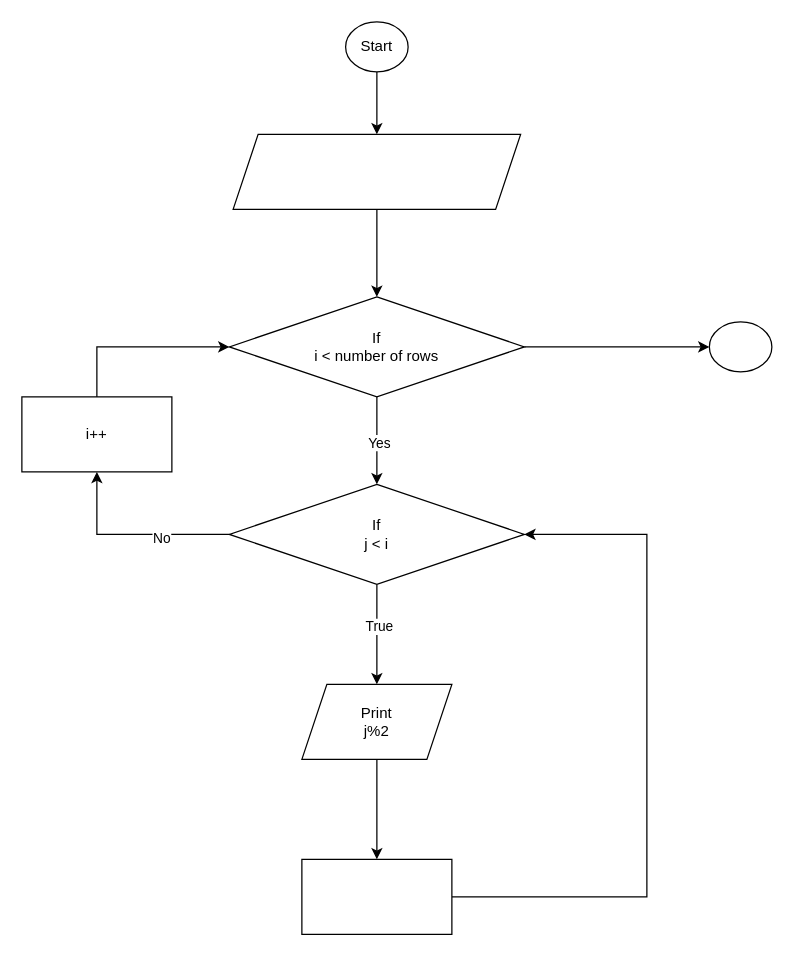
Some shapes in this 794 by 956 pixel diagram are drawn without their labels. The centre of each missing label's shape, as x and y in pixels:
"Enter number of rows" goes at point 376,171.
"j++" goes at point 376,896.
"Stop" goes at point 740,346.
